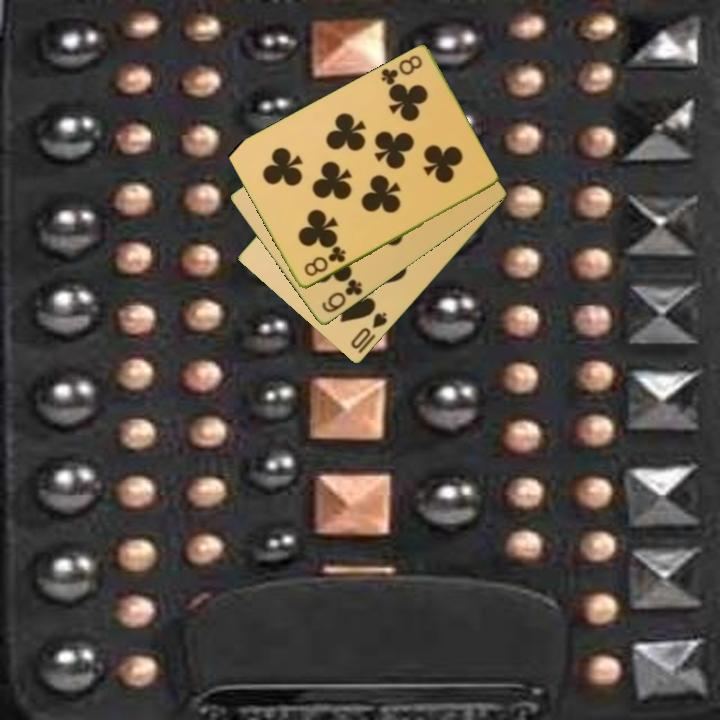10s: (347, 309, 390, 352)
6c: (318, 276, 365, 316)
8c: (300, 243, 349, 280), (377, 52, 425, 89)
